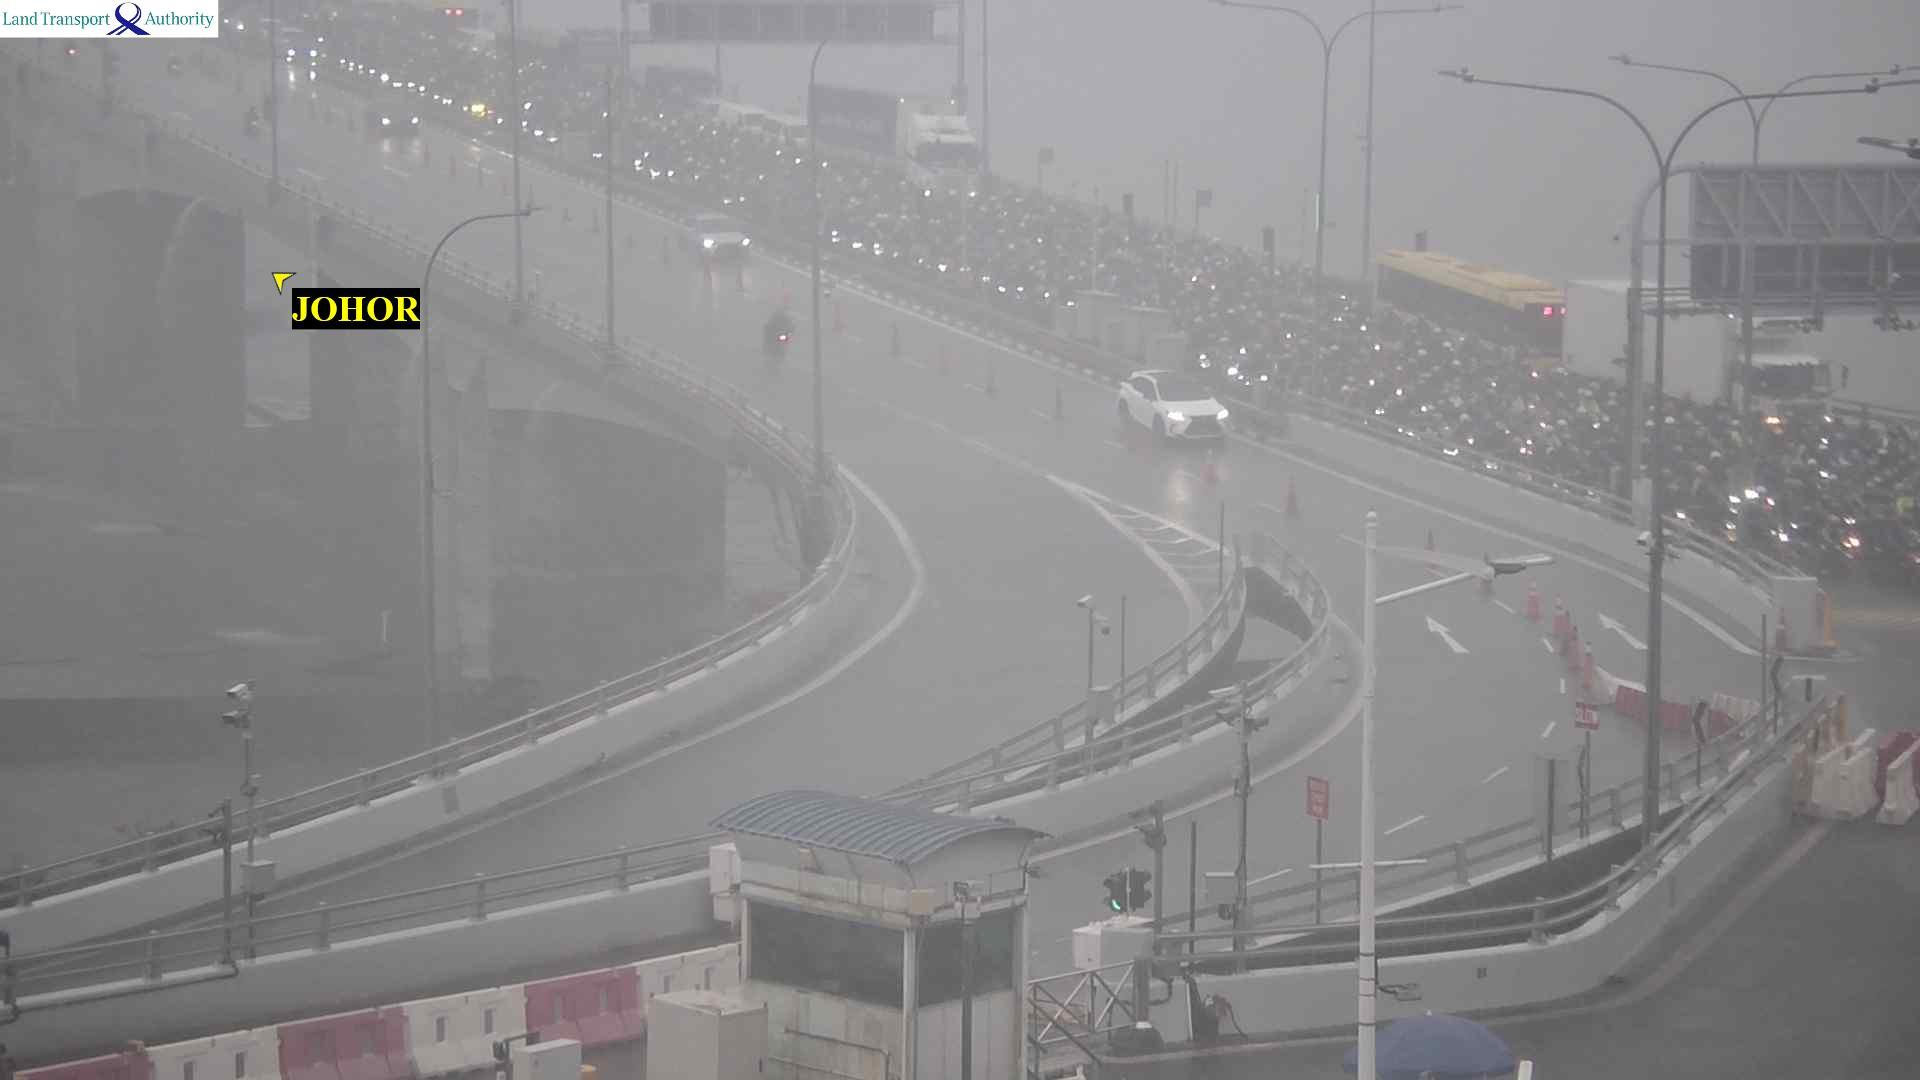vehicle-secondlink-johor: (764, 301, 793, 351), (165, 50, 181, 80), (248, 108, 261, 132)
vehicle-secondlink-singapore: (1565, 278, 1832, 415), (1378, 251, 1563, 364), (808, 84, 977, 185), (1116, 373, 1228, 440), (497, 24, 617, 79), (670, 218, 760, 264), (644, 65, 711, 102), (1829, 509, 1869, 566), (365, 100, 421, 140), (719, 98, 764, 133), (762, 117, 807, 142)
